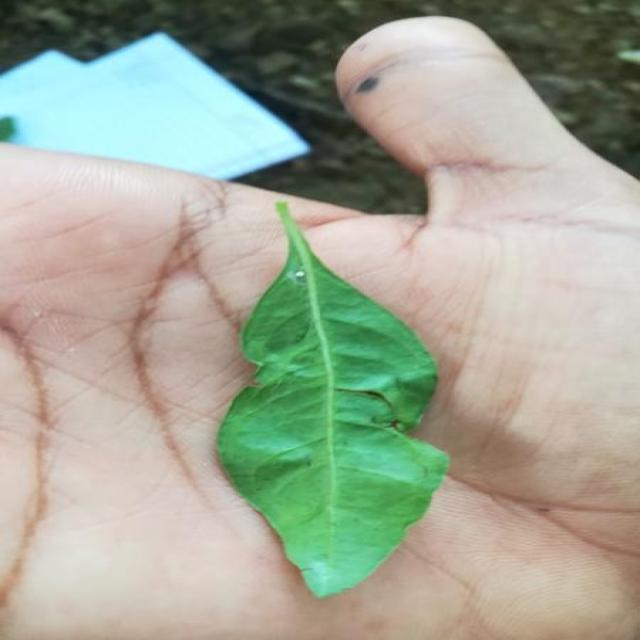henna: (217, 202, 448, 597)
